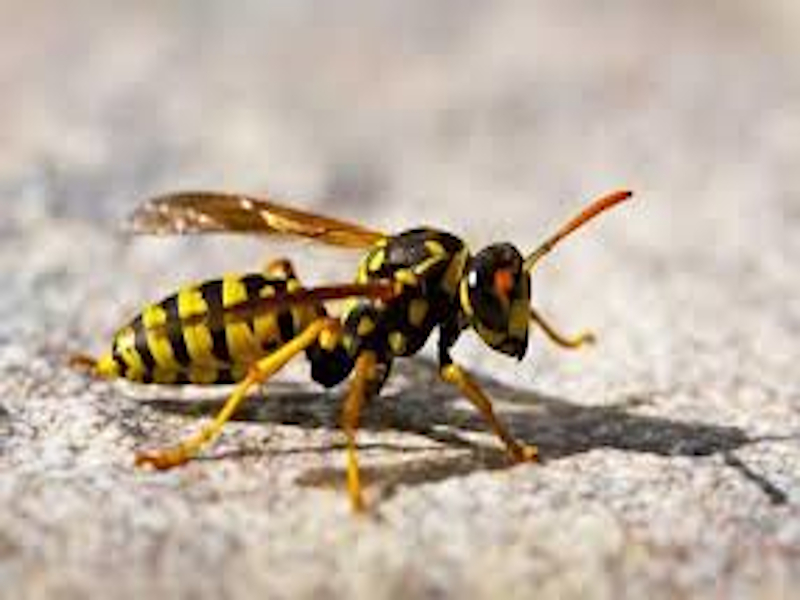chax: (64, 135, 743, 509)
